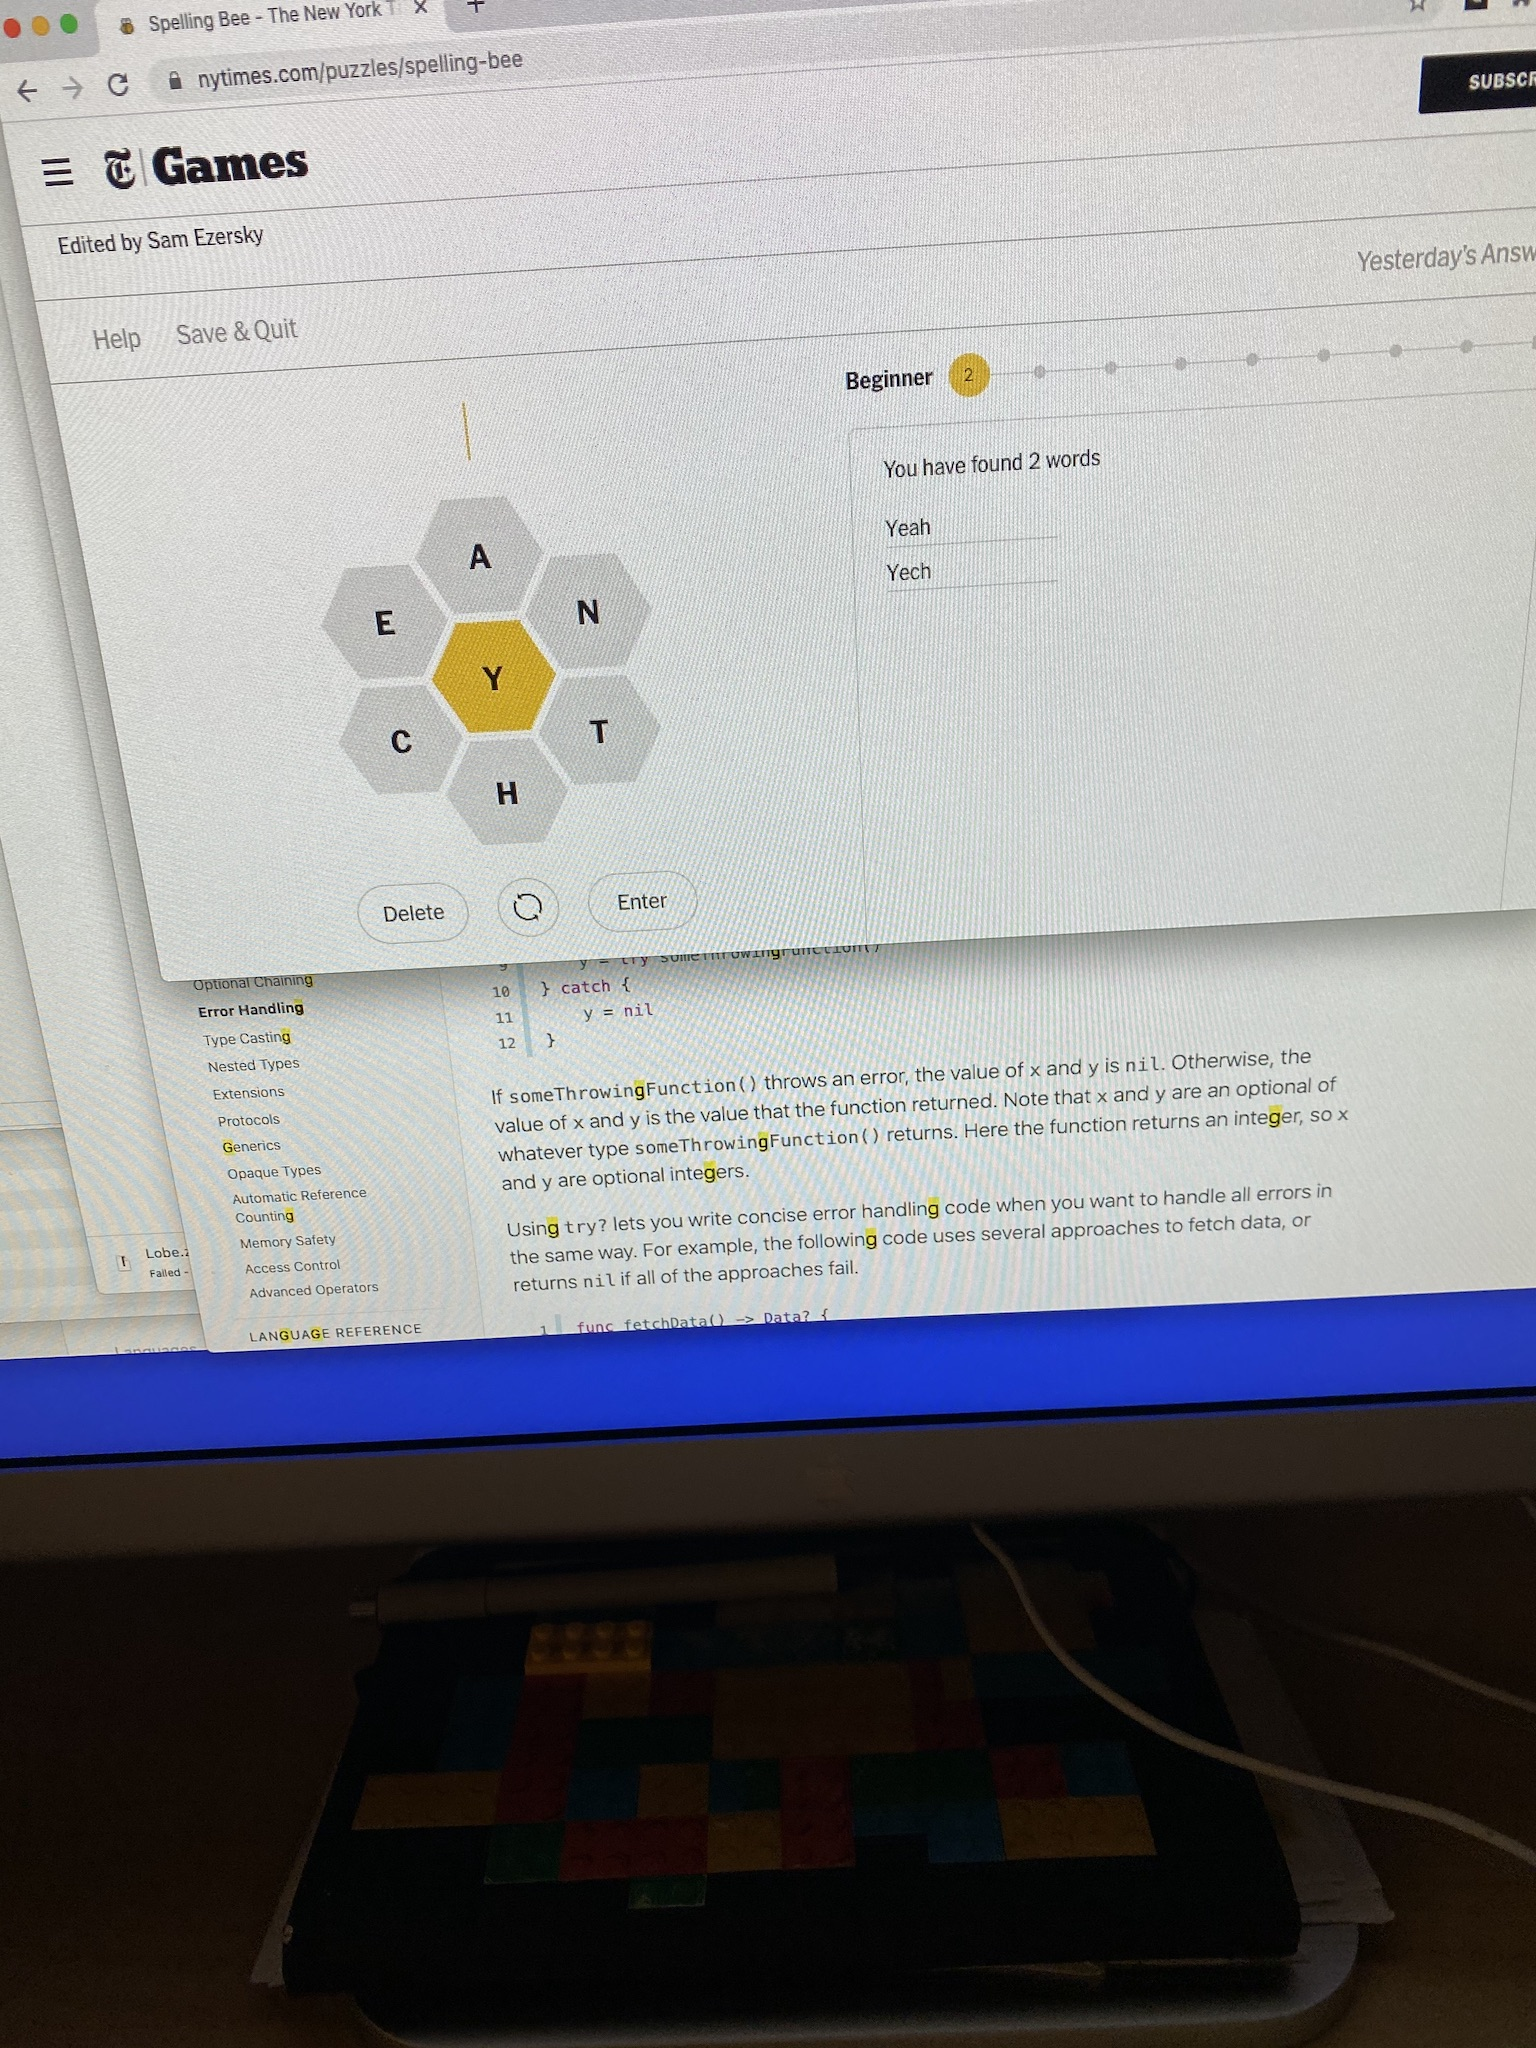Board: (302, 484, 678, 871)
